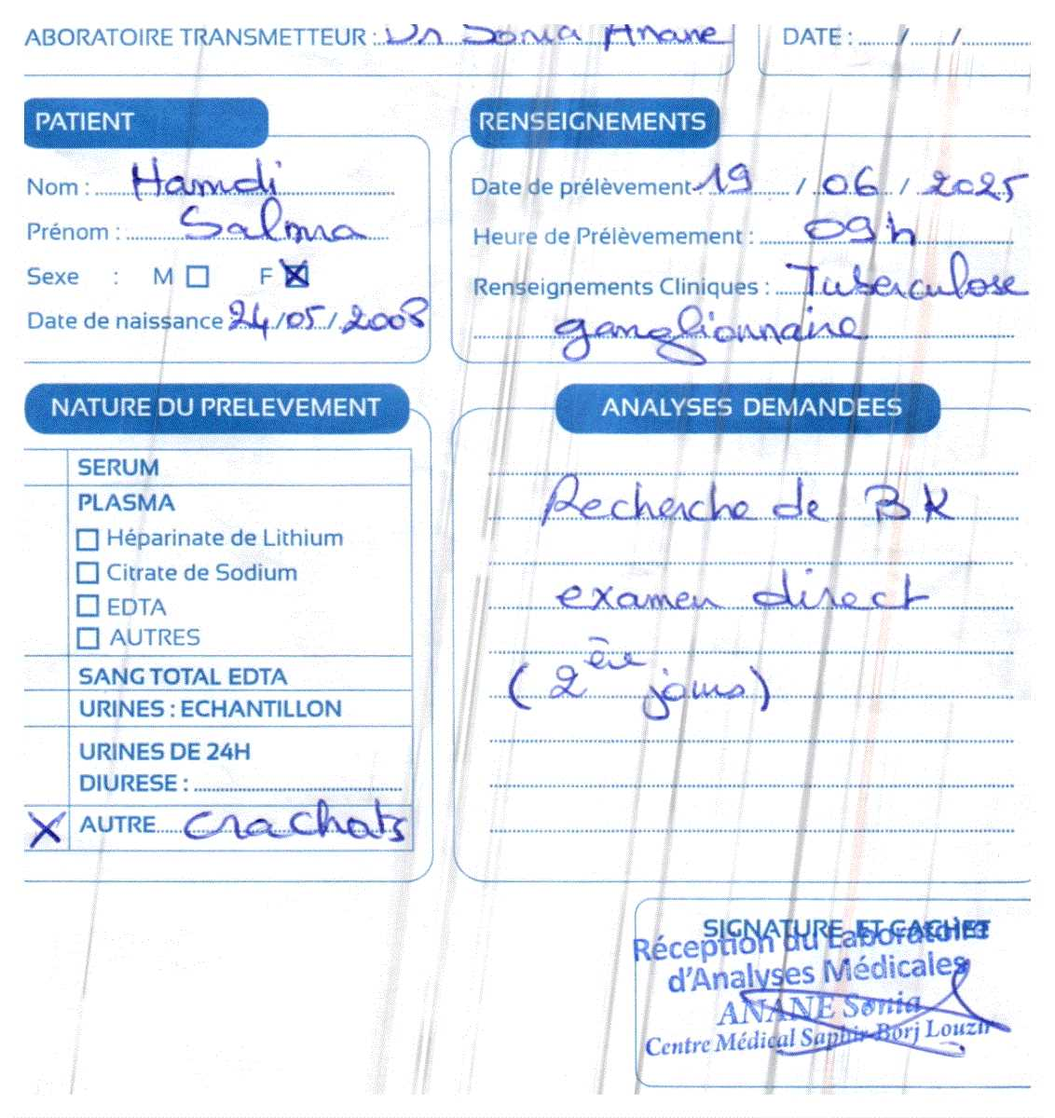zone_analyses: (454, 369, 1002, 736)
zone_patient: (13, 83, 439, 352)
